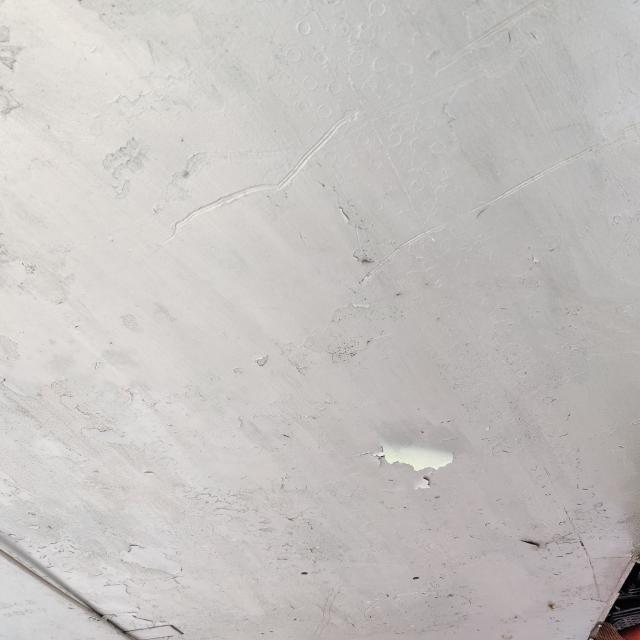paint-off: (366, 425, 463, 500)
scratch: (154, 92, 367, 258), (458, 123, 616, 220), (429, 0, 567, 83), (354, 202, 454, 290)
